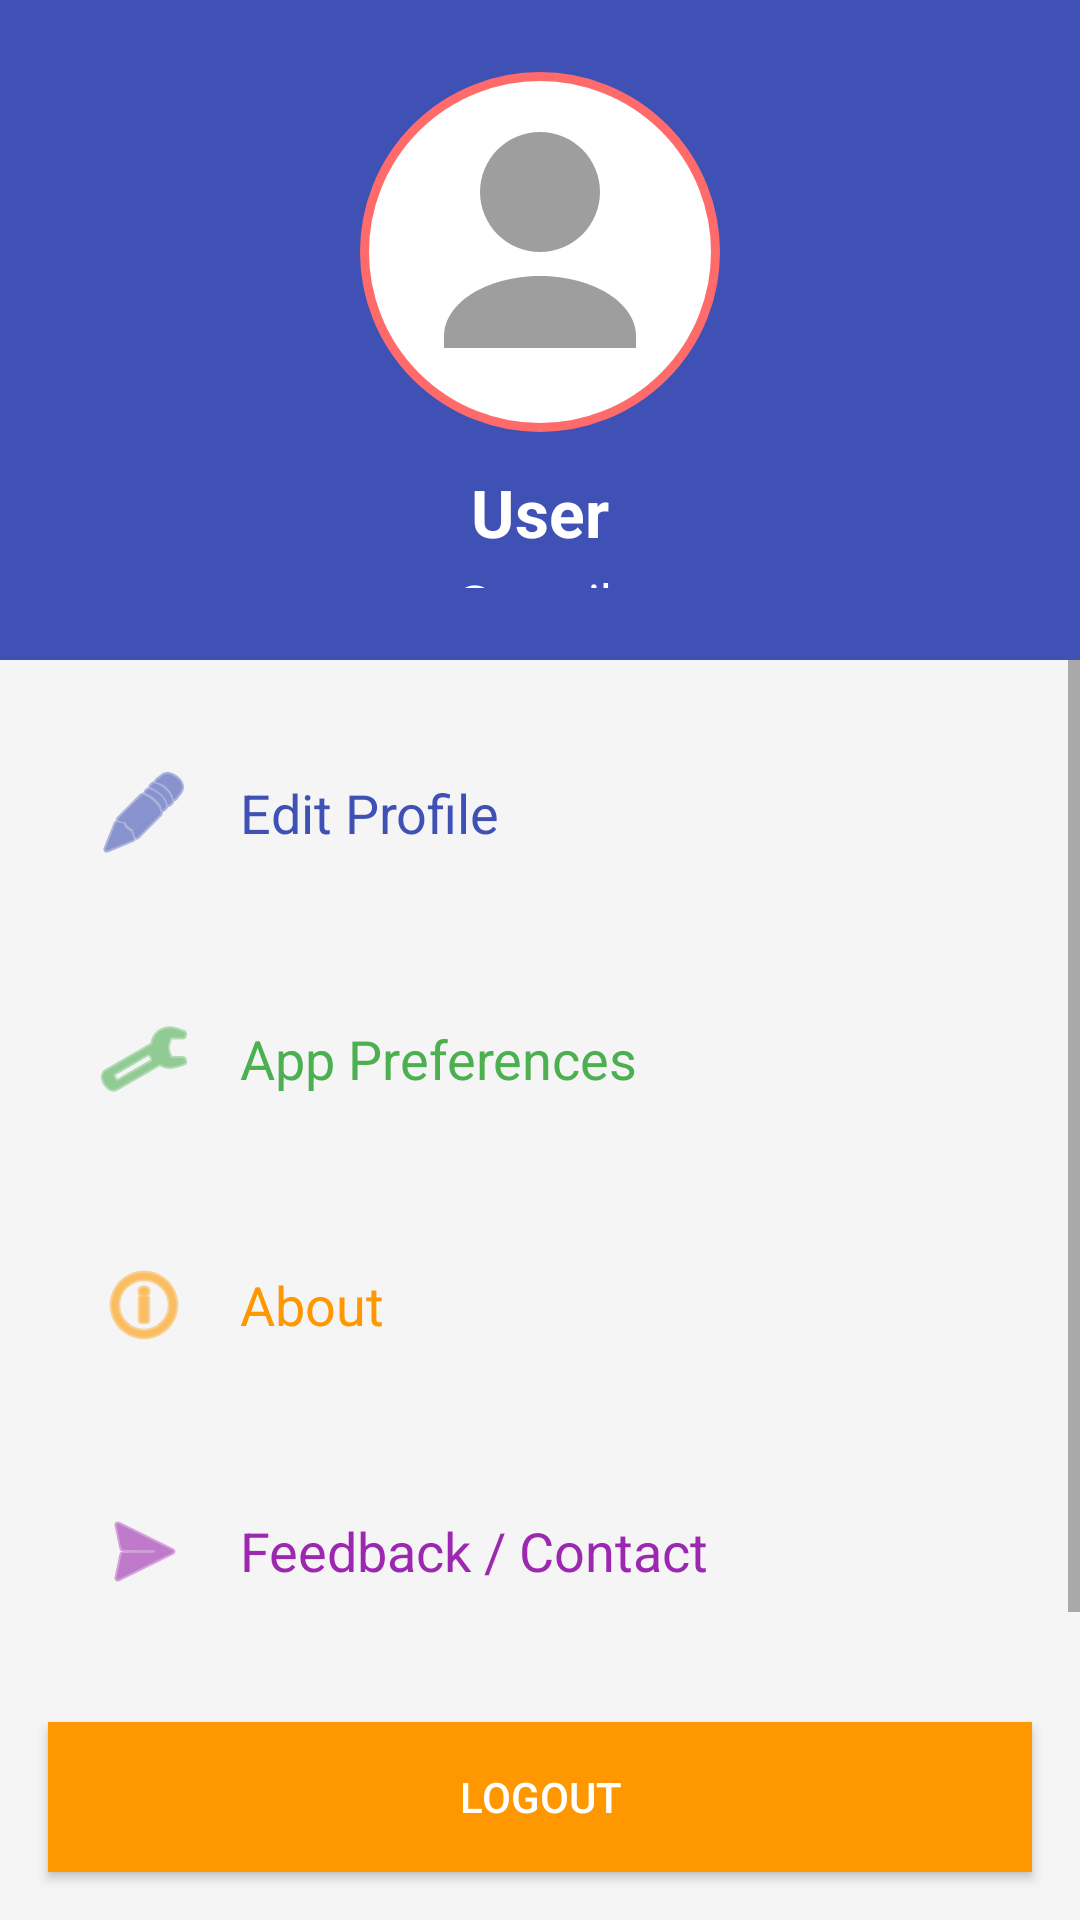

Icon bounding boxes for this 1080x1920 phone screenshot, format (x1, y1, x2, y2):
info details: (109, 1270, 179, 1340)
manage: (101, 1026, 187, 1092)
send: (114, 1521, 176, 1582)
